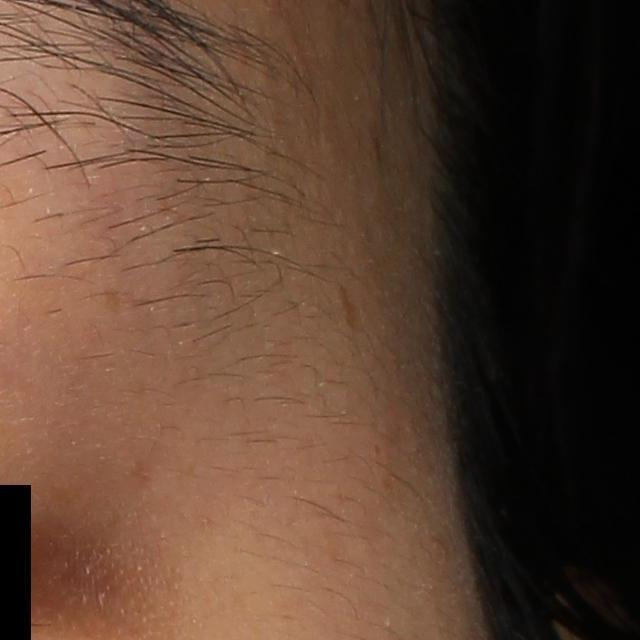melasma: (337, 282, 365, 330)
